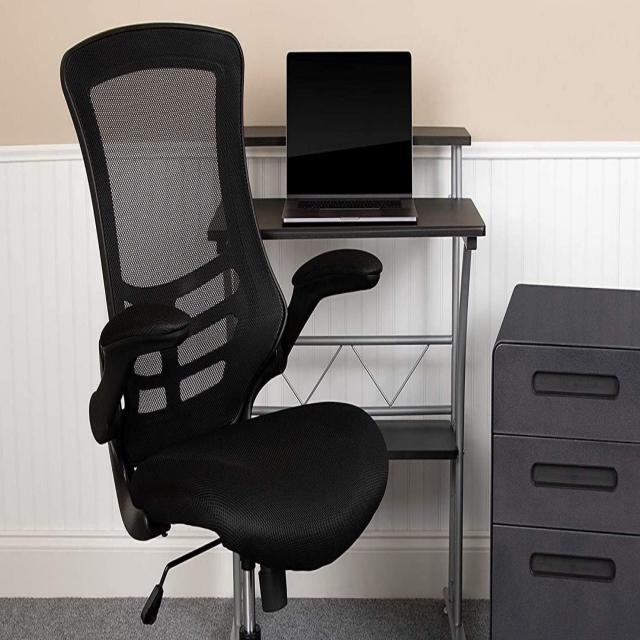chair: (59, 20, 389, 640)
